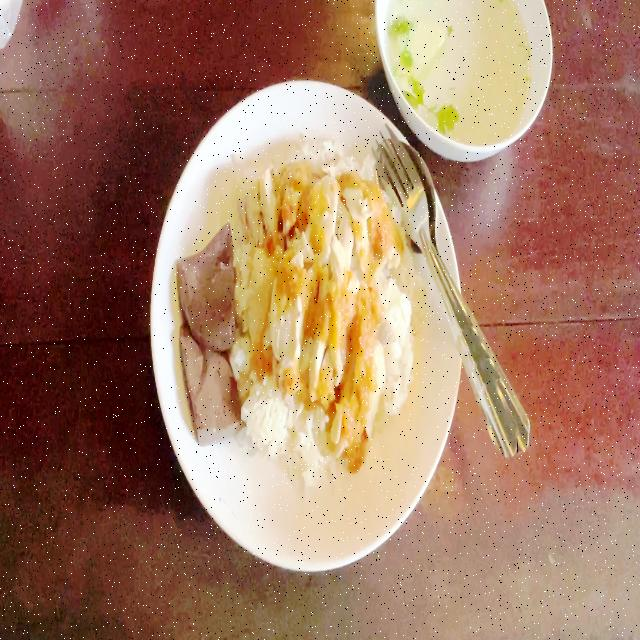boiled_chicken: (236, 164, 391, 423)
boiled_chicken_blood_jelly: (176, 232, 236, 358), (175, 321, 237, 435)
chicken_rice: (176, 137, 410, 495)
